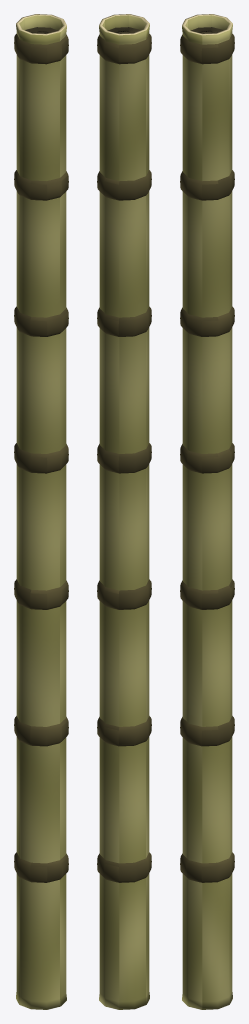
The model's file is gourd-prop-bamboo-pole.glb.
3 renders of one model, left to right at view 1: azimuth 30°, elevation 25°; view 2: azimuth 150°, elevation 25°; view 3: azimuth 330°, elevation 25°, orthographic.
Visible parts, largest first — view 1: post, nodes, floor; view 2: post, nodes, floor; view 3: post, nodes, floor.
Boxes of the visible parts, left/top/right/bottom form: post: left=16, top=14, right=66, bottom=1009; nodes: left=14, top=33, right=68, bottom=882; floor: left=25, top=27, right=57, bottom=33; post: left=99, top=14, right=149, bottom=1009; nodes: left=97, top=33, right=151, bottom=882; floor: left=108, top=27, right=140, bottom=33; post: left=182, top=14, right=232, bottom=1009; nodes: left=180, top=33, right=234, bottom=882; floor: left=191, top=27, right=223, bottom=33.
Bounding box in the file's own units: 0.012 × 0.235 × 0.0114.
Materials: 4 (4 with a texture image).
